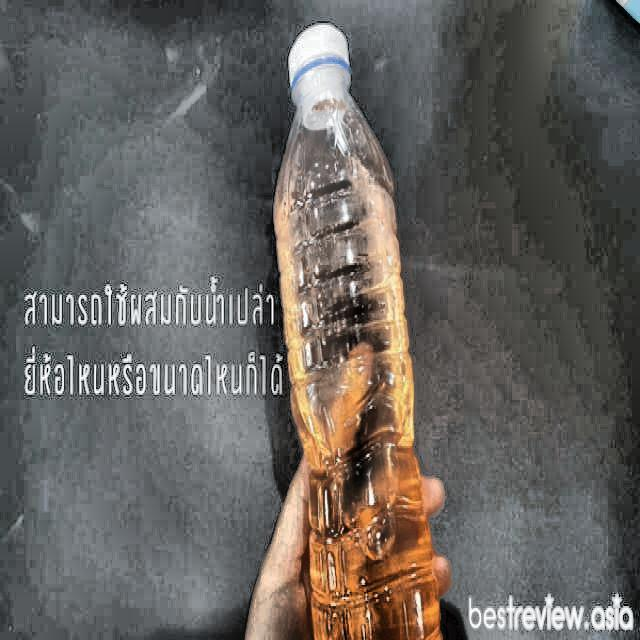plastic bottle: (275, 24, 443, 640)
